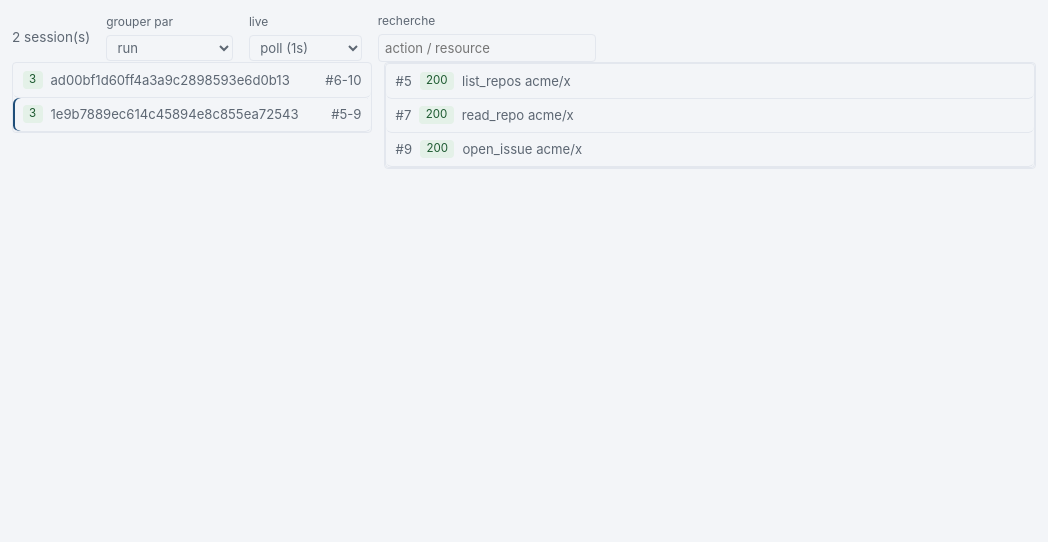
SessionsPanel (R16 contract, coalesced delta) › shows no ghost badge when reconcile reports no bypass flows
What coordinates should you click on to do the following:
click the button "#5 200 list_repos acme/x"
I would click on:
 (437, 81)
Its box is [386,64,1034,99].
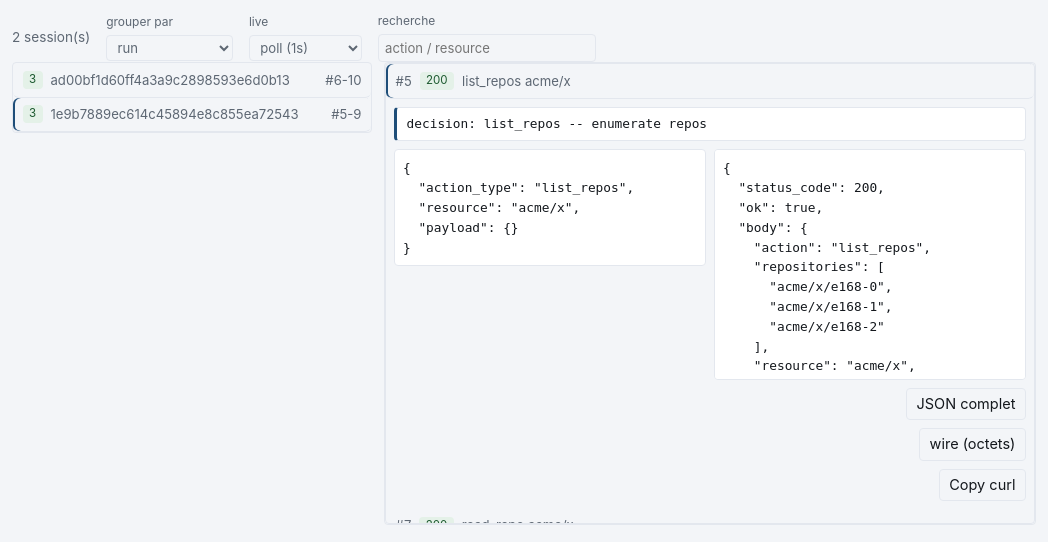
Now the text with test id "exchange-intent" is shown, box [394,149,706,266]
